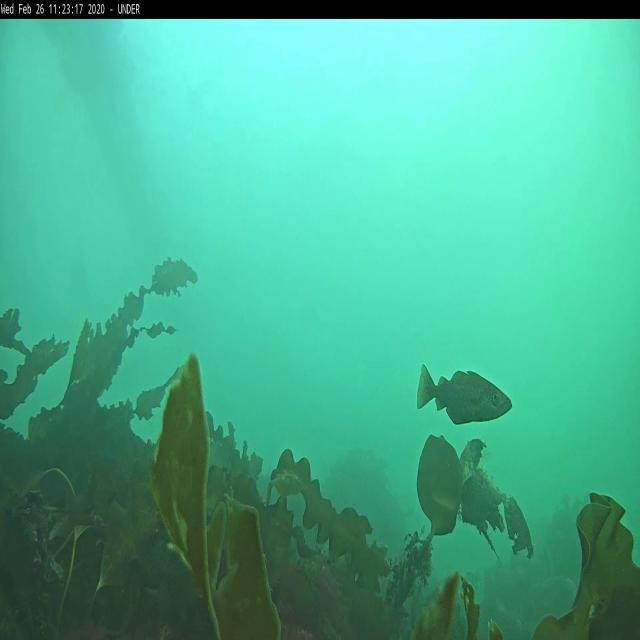fish: (416, 361, 512, 421)
